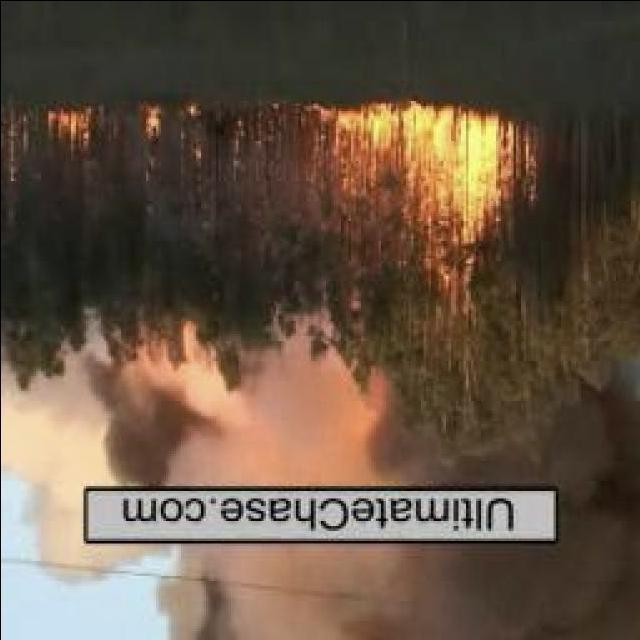Fire: (320, 100, 507, 230), (44, 105, 91, 158), (142, 104, 164, 148)
